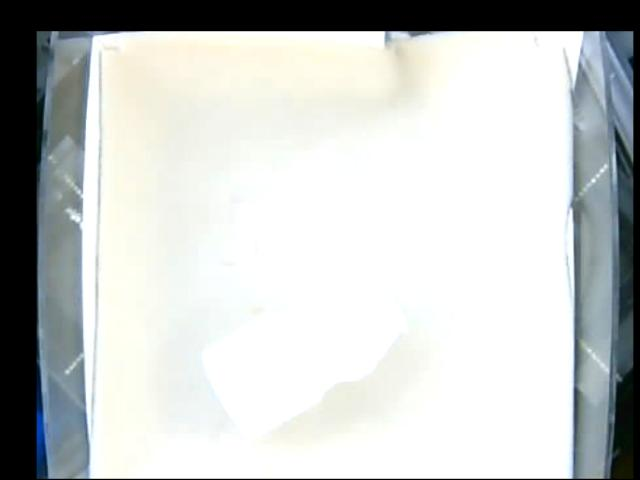Bottle: (204, 273, 410, 435)
